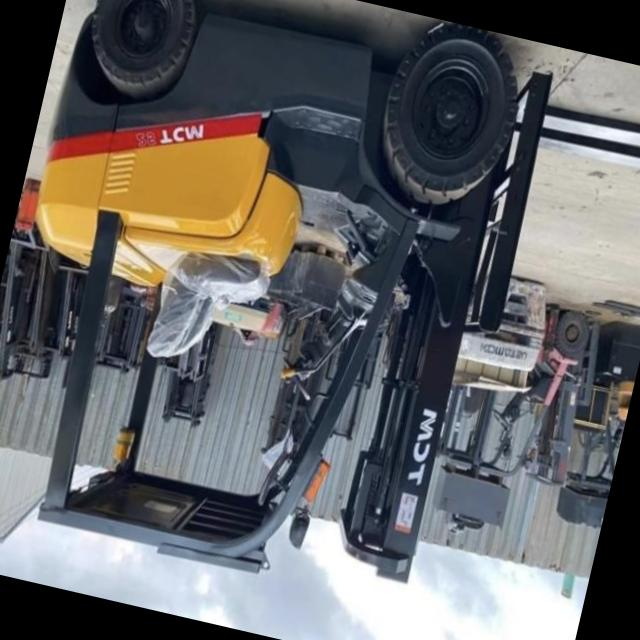forklift: (0, 0, 582, 603)
